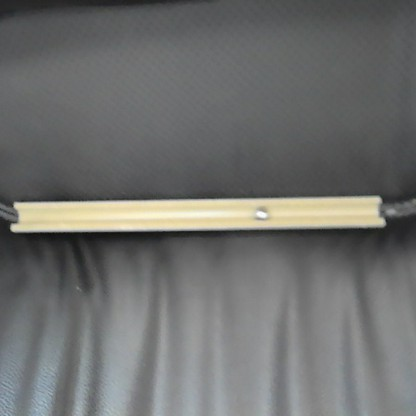ironball: (249, 204, 270, 221)
